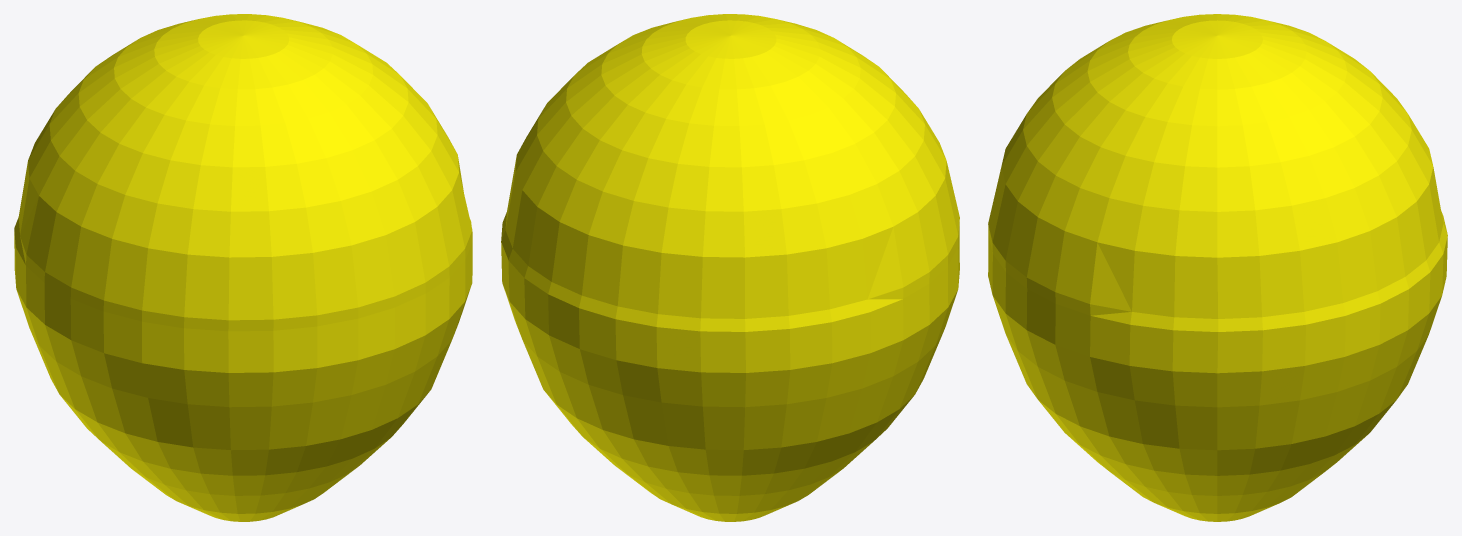
The model's file is Balloon.obj.
The picture shows the model from 3 angles, left to right: view 1: azimuth 30°, elevation 25°; view 2: azimuth 150°, elevation 25°; view 3: azimuth 270°, elevation 25°; orthographic projection.
Visible parts, largest first — view 1: 球; view 2: 球; view 3: 球.
Part boxes in pixels (x1=…): 球: x1=14, y1=14, x2=472, y2=521; 球: x1=501, y1=14, x2=959, y2=521; 球: x1=988, y1=14, x2=1447, y2=521.
Bounding box in the file's own units: 1.97 × 2.22 × 1.97.
Materials: 1 (1 with a texture image).
